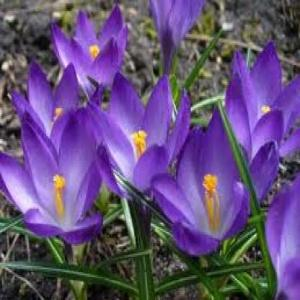Saffron: (155, 110, 275, 262), (3, 110, 103, 245), (91, 74, 194, 205), (226, 43, 300, 165), (48, 7, 125, 104)
